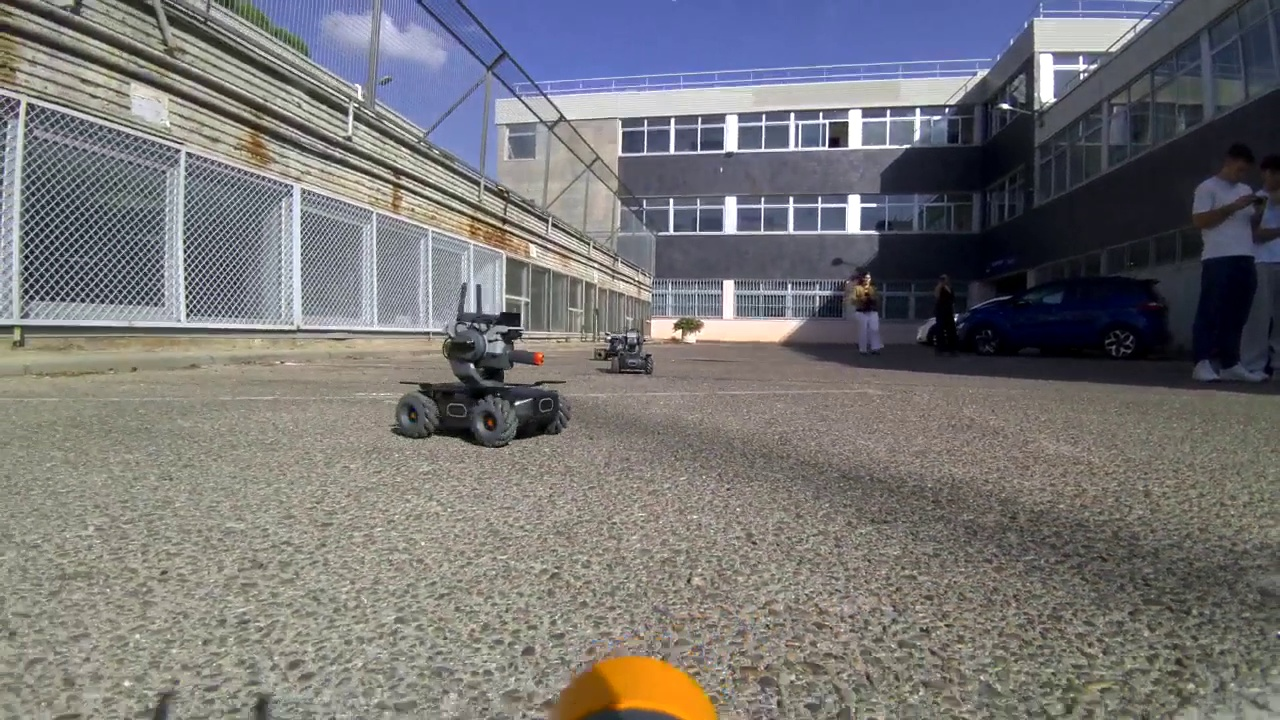robot: (390, 272, 569, 444), (616, 331, 659, 375), (587, 329, 625, 363)
